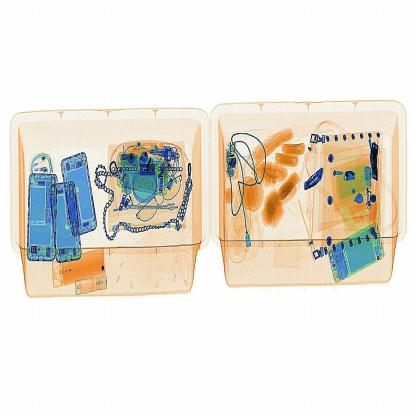knife: (297, 158, 324, 197)
